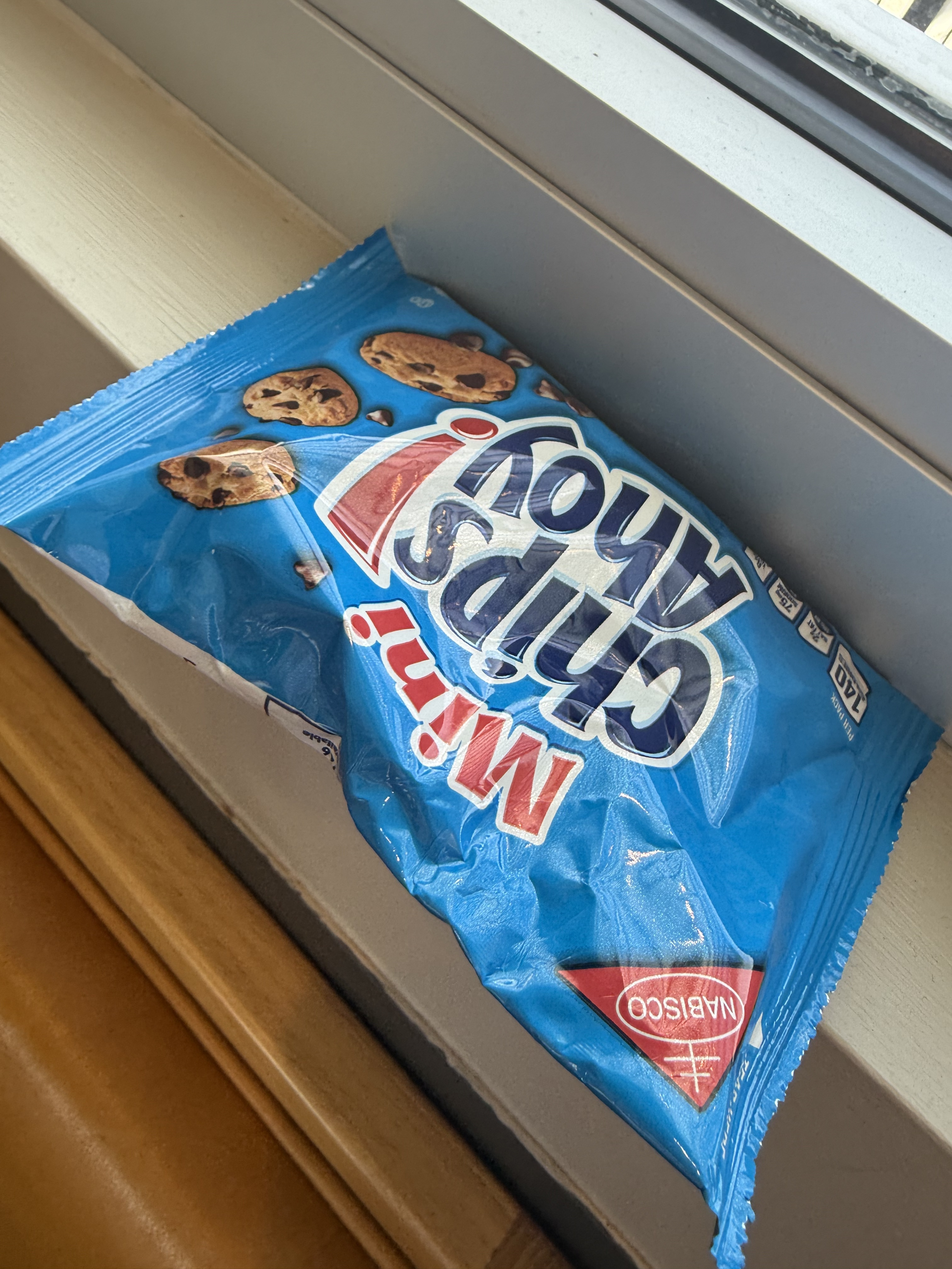chips_ahoy: (33, 444, 527, 1269)
